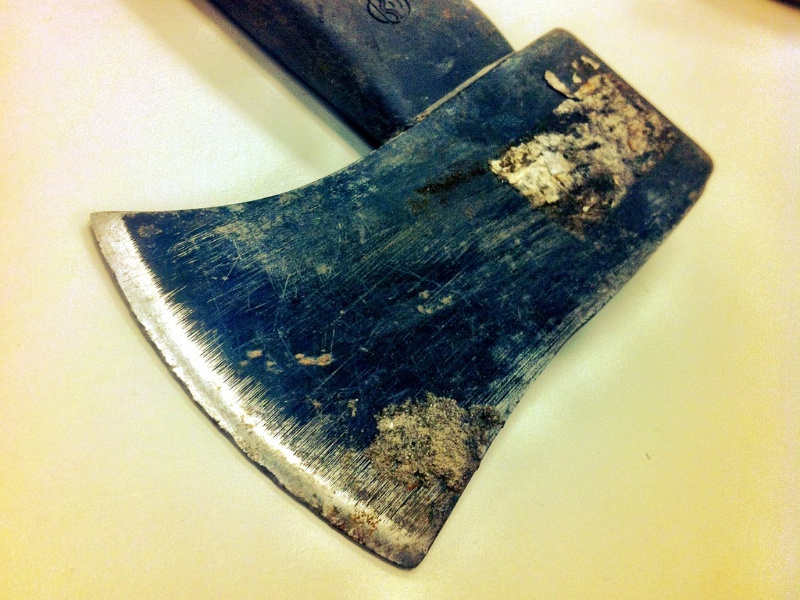axe: (89, 20, 716, 572)
